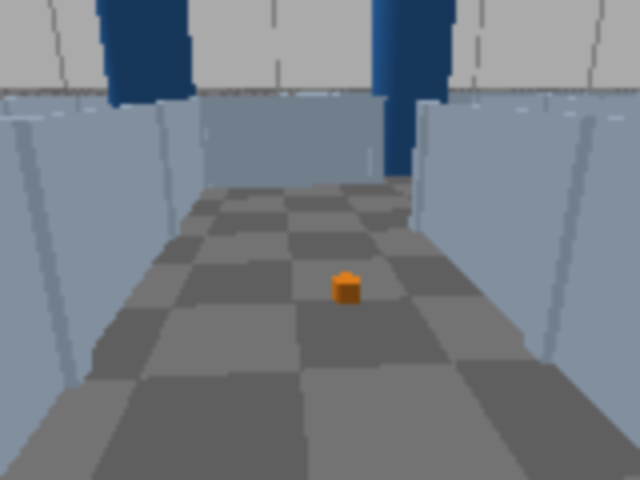puck: (336, 274, 359, 304)
